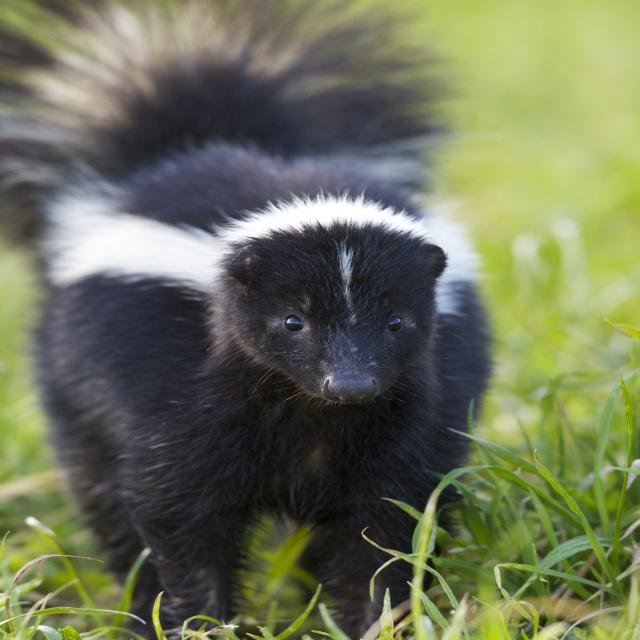Skunk: (0, 0, 545, 632)
